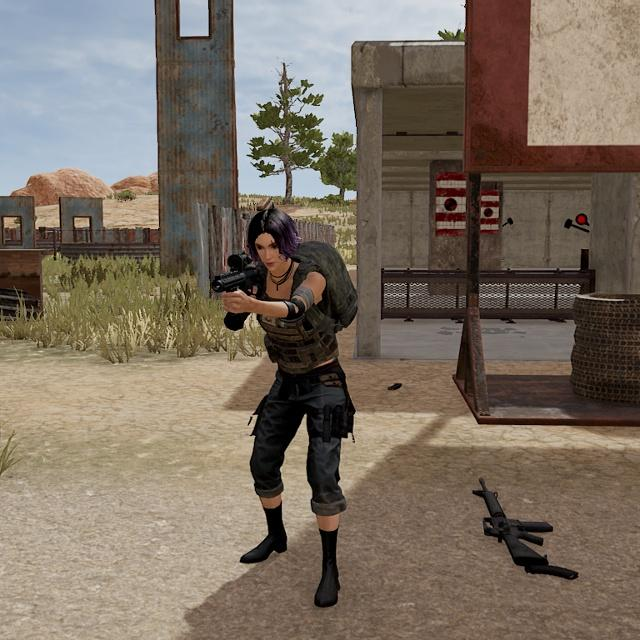head: (244, 205, 296, 286)
people: (204, 202, 377, 612)
